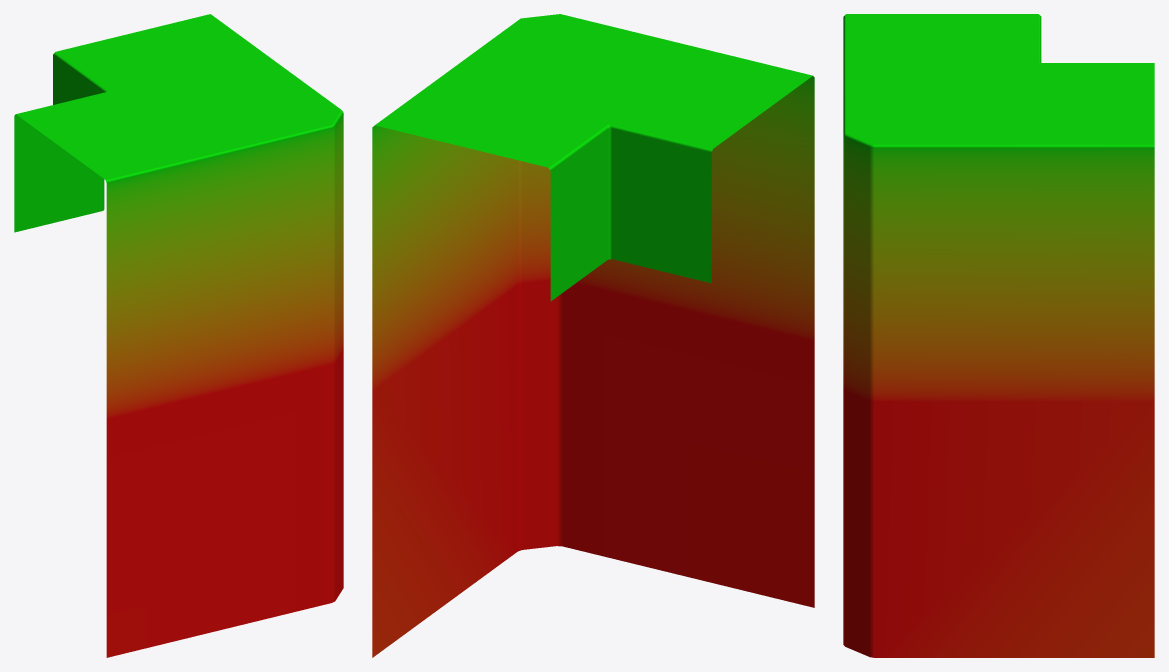
Rendered from WallKit_Foundation_Corner_LOD0.fbx.
3 renders of one model, left to right at view 1: azimuth 30°, elevation 25°; view 2: azimuth 150°, elevation 25°; view 3: azimuth 270°, elevation 25°, orthographic. The views are drawn at different scales.
Parts seen in each view (by area): view 1: WallKit_Foundation_Corner_LOD0; view 2: WallKit_Foundation_Corner_LOD0; view 3: WallKit_Foundation_Corner_LOD0.
Part boxes in pixels (<box>): WallKit_Foundation_Corner_LOD0: <box>14,14,343,657</box>; WallKit_Foundation_Corner_LOD0: <box>372,14,814,657</box>; WallKit_Foundation_Corner_LOD0: <box>843,14,1154,657</box>.
Bounding box in the file's own units: 110 × 200 × 110.
